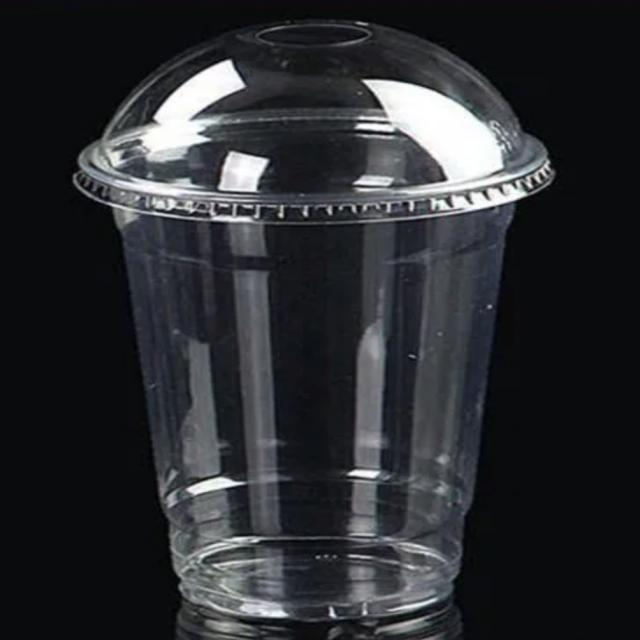recyclable: (51, 5, 568, 640)
